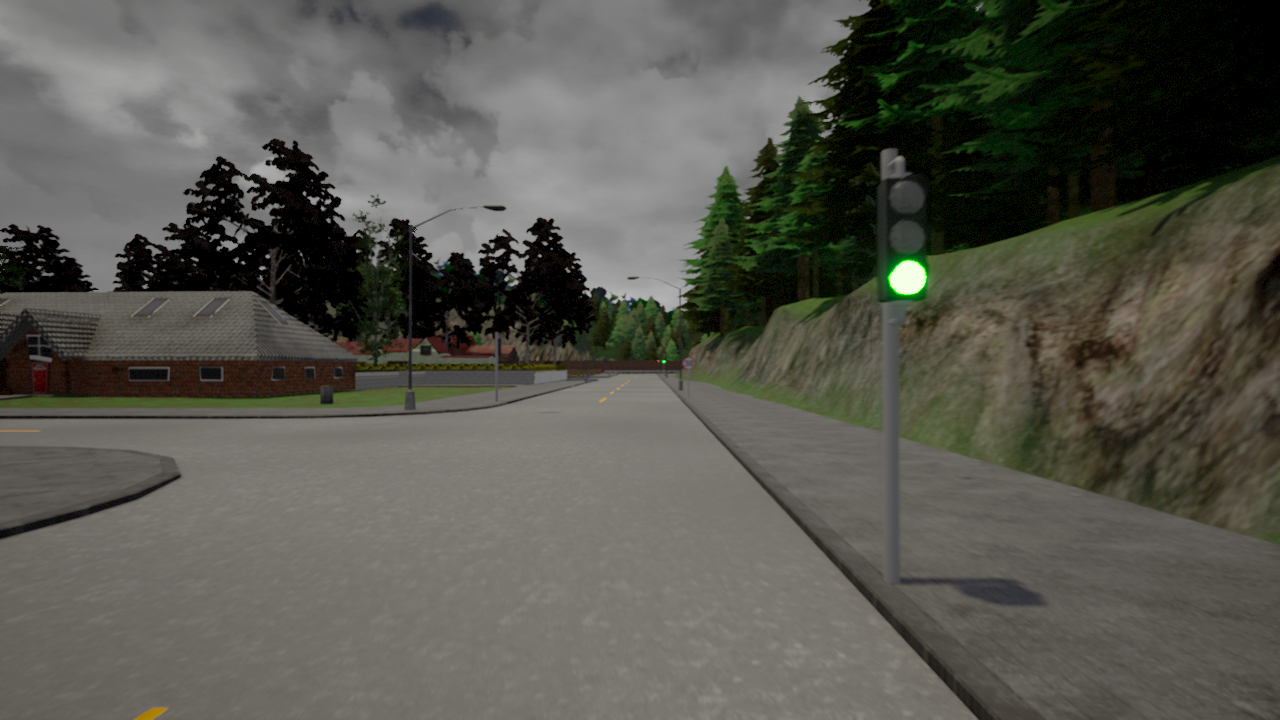green: (873, 176, 930, 304)
